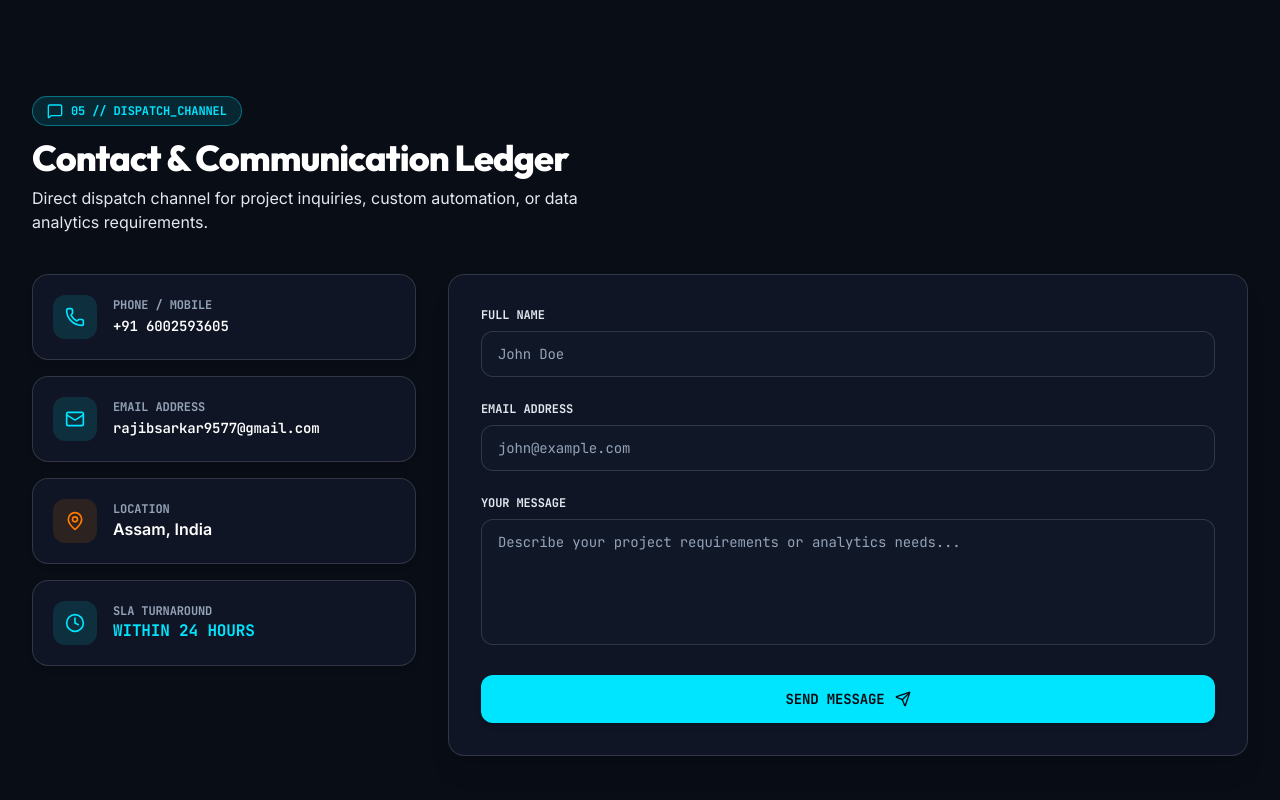
Scenario: Contact Form Validation › should validate email format correctly
# Fill valid name, invalid email, valid message
Type "Test User" into the field labelled "Full Name" at (848, 354), box [481, 331, 1215, 377]
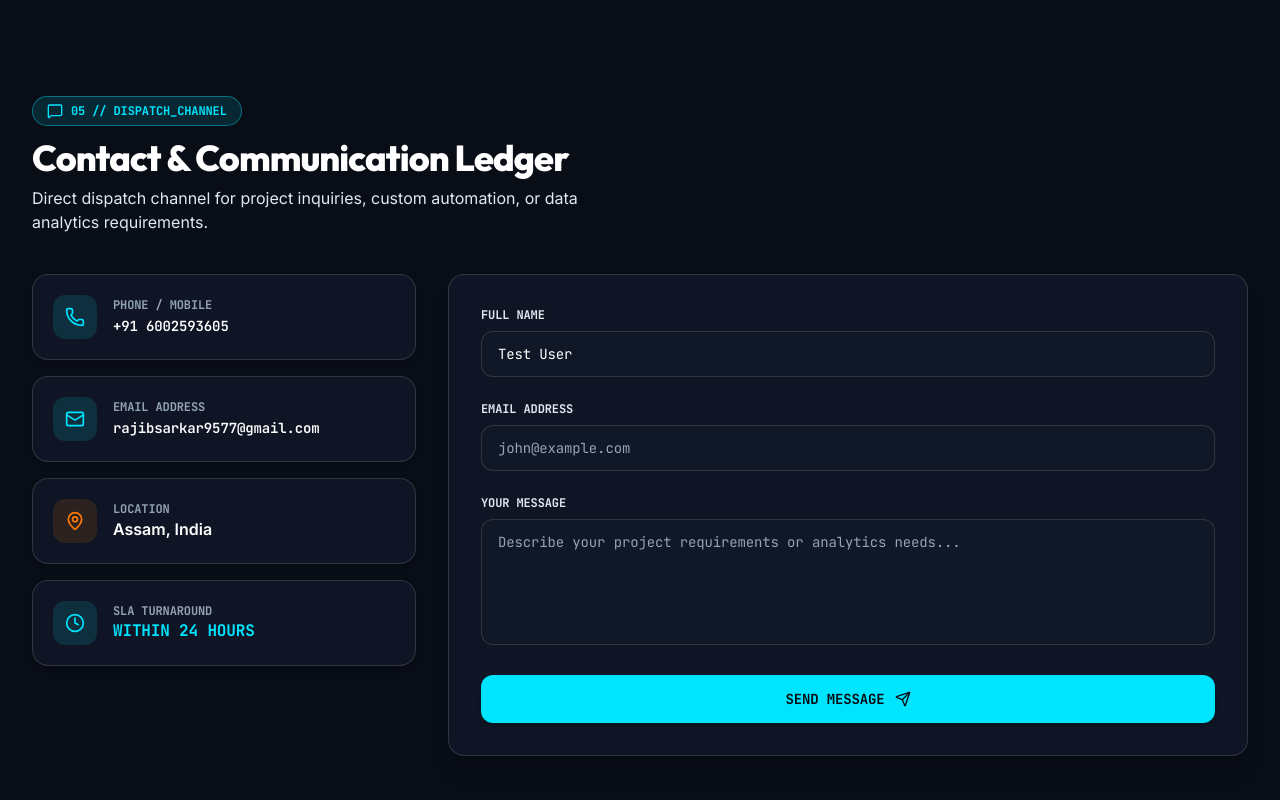
Type "invalid-email" into the field labelled "Email Address" at (848, 448), box [481, 425, 1215, 471]
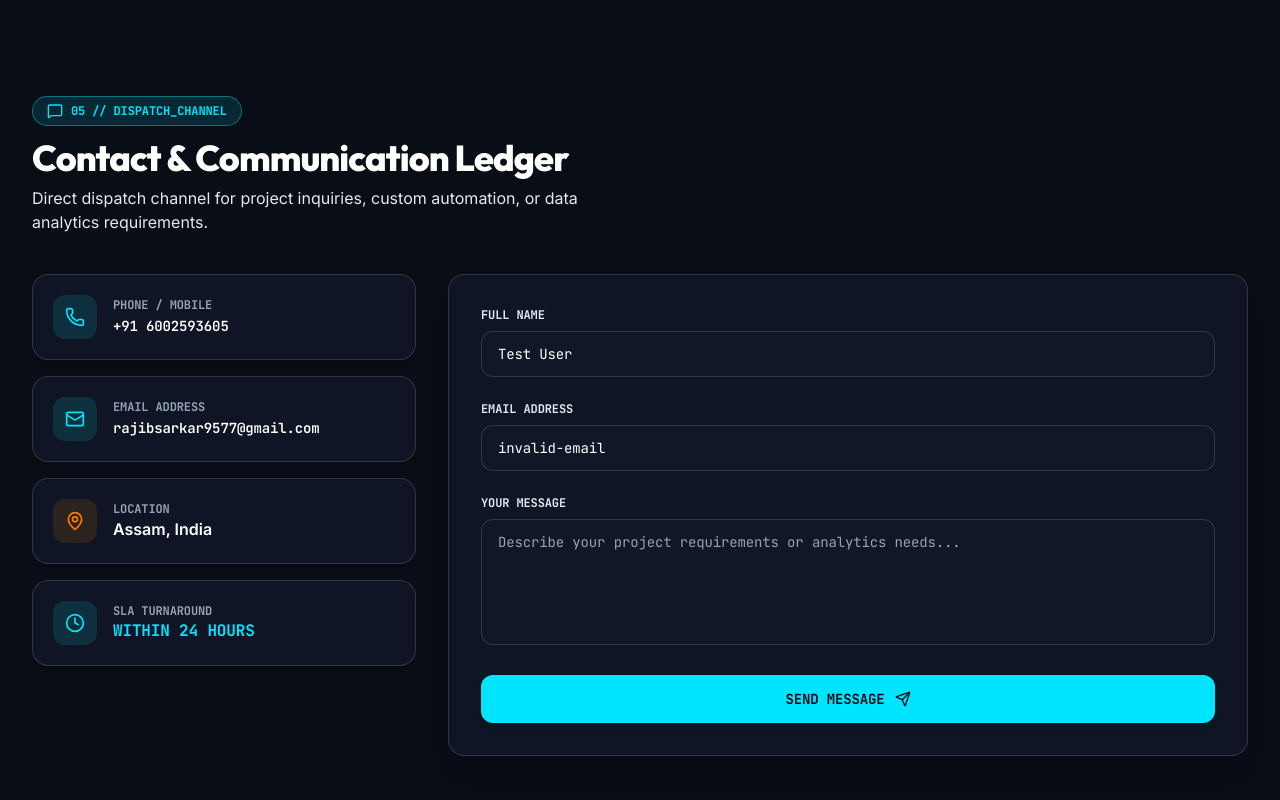
Type "This is a long message for the form validation test." into the text box labelled "Your Message" at (848, 582), box [481, 519, 1215, 645]
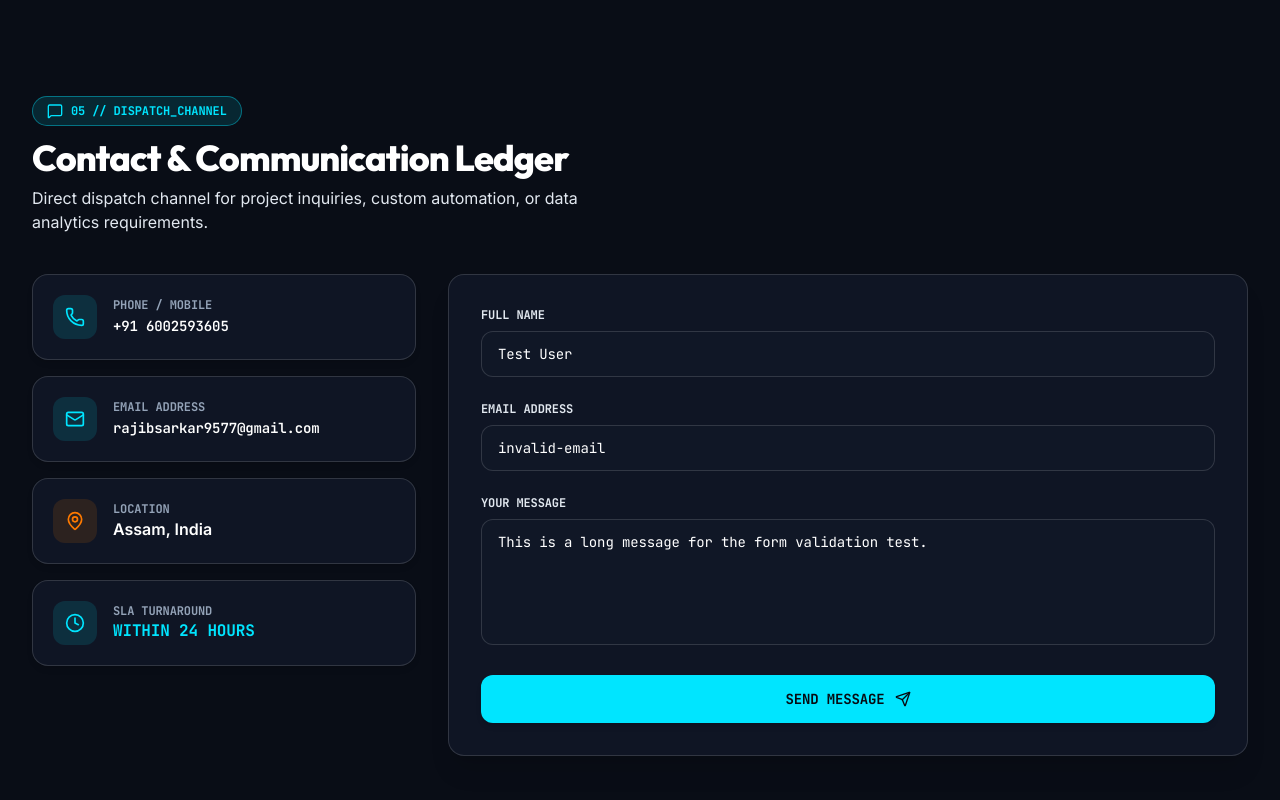
Click the button "Send Message" at (848, 699), box [481, 675, 1215, 723]
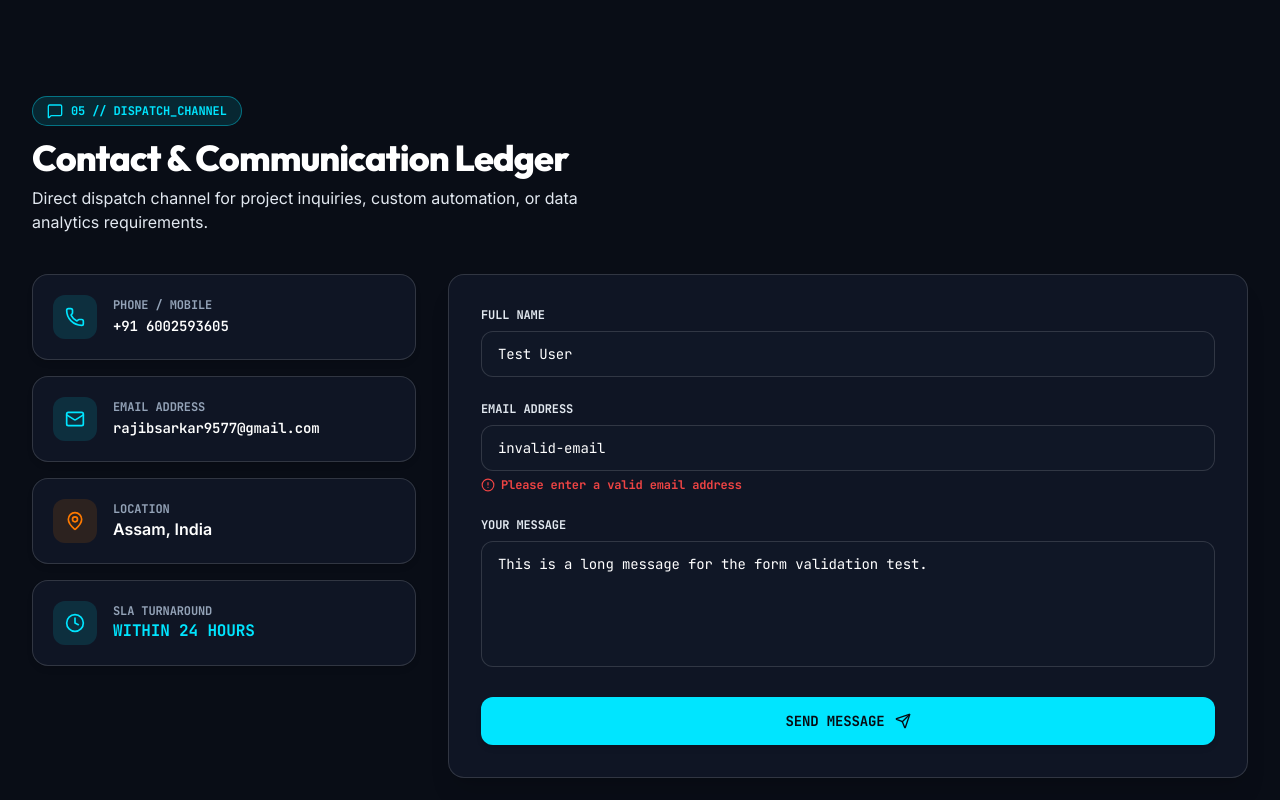
Expected: the text "Please enter a valid email address" is shown, [501, 477, 742, 493]
